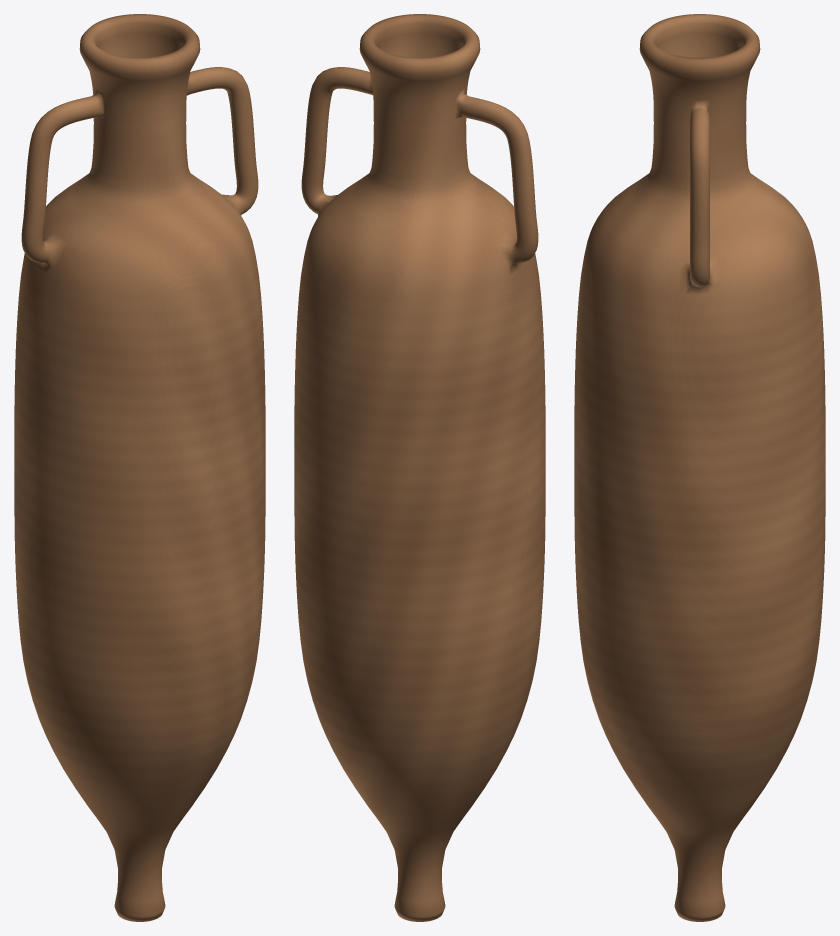
File: NEW692_Amphora_LOD0.glb
The picture shows the model from 3 angles, left to right: view 1: azimuth 30°, elevation 25°; view 2: azimuth 150°, elevation 25°; view 3: azimuth 270°, elevation 25°; orthographic projection.
Parts seen in each view (by area): view 1: Complete_open_amphora_with_two_connected_handles; view 2: Complete_open_amphora_with_two_connected_handles; view 3: Complete_open_amphora_with_two_connected_handles.
Part boxes in pixels (box(x1,y1,x2,y2)): Complete_open_amphora_with_two_connected_handles: box(14, 14, 265, 921); Complete_open_amphora_with_two_connected_handles: box(294, 14, 545, 921); Complete_open_amphora_with_two_connected_handles: box(574, 14, 825, 921).
Size of the model in its own units: 0.3077 by 1.1 by 0.2861.
Materials: 1 (1 with a texture image).
